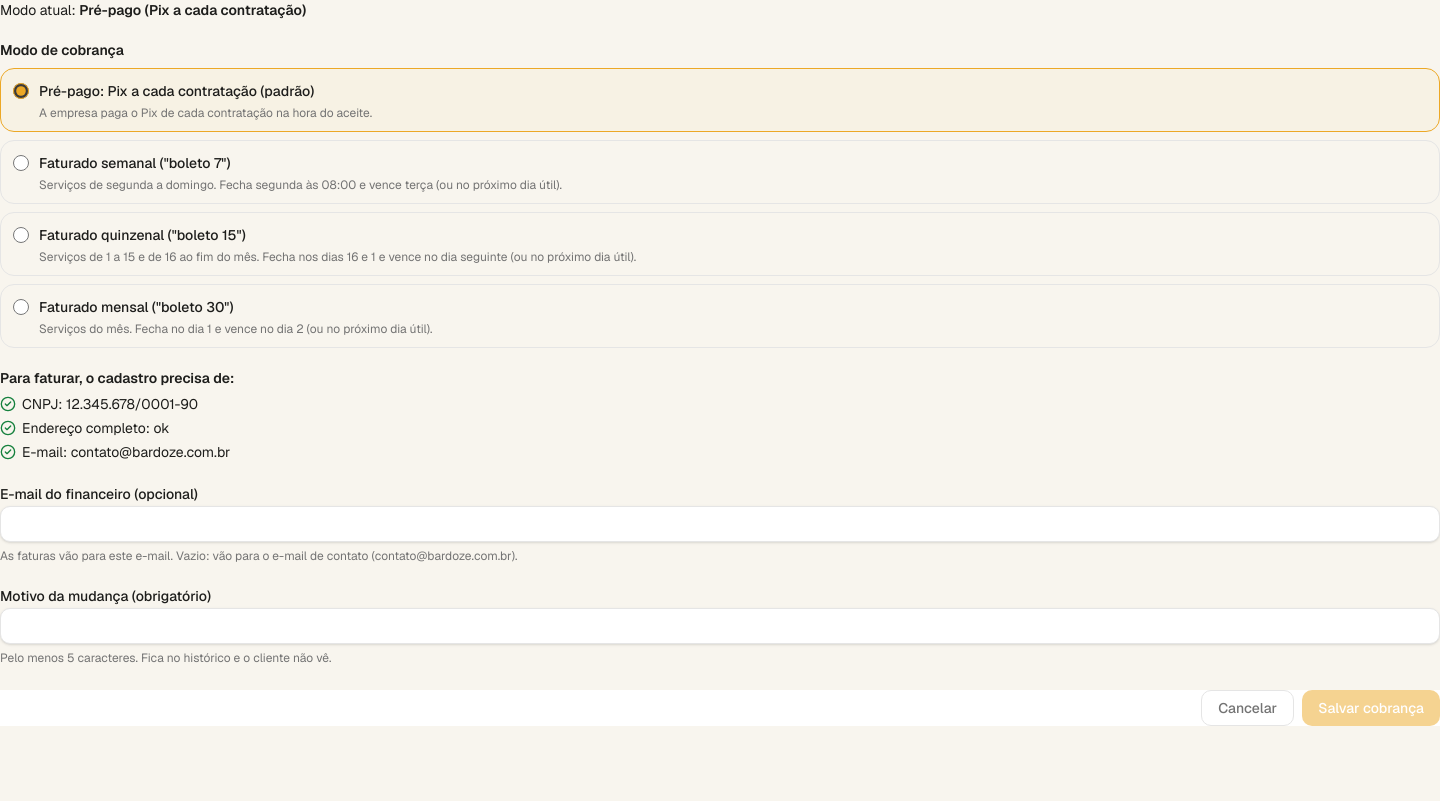
it: BillingTab — validação e salvar › ao sair do campo curto: 'Escreva o motivo (pelo menos 5 caracteres).'
Click the radio button labelled "Faturado semanal (\"boleto 7\")" at [21, 163], box [13,155,29,171]
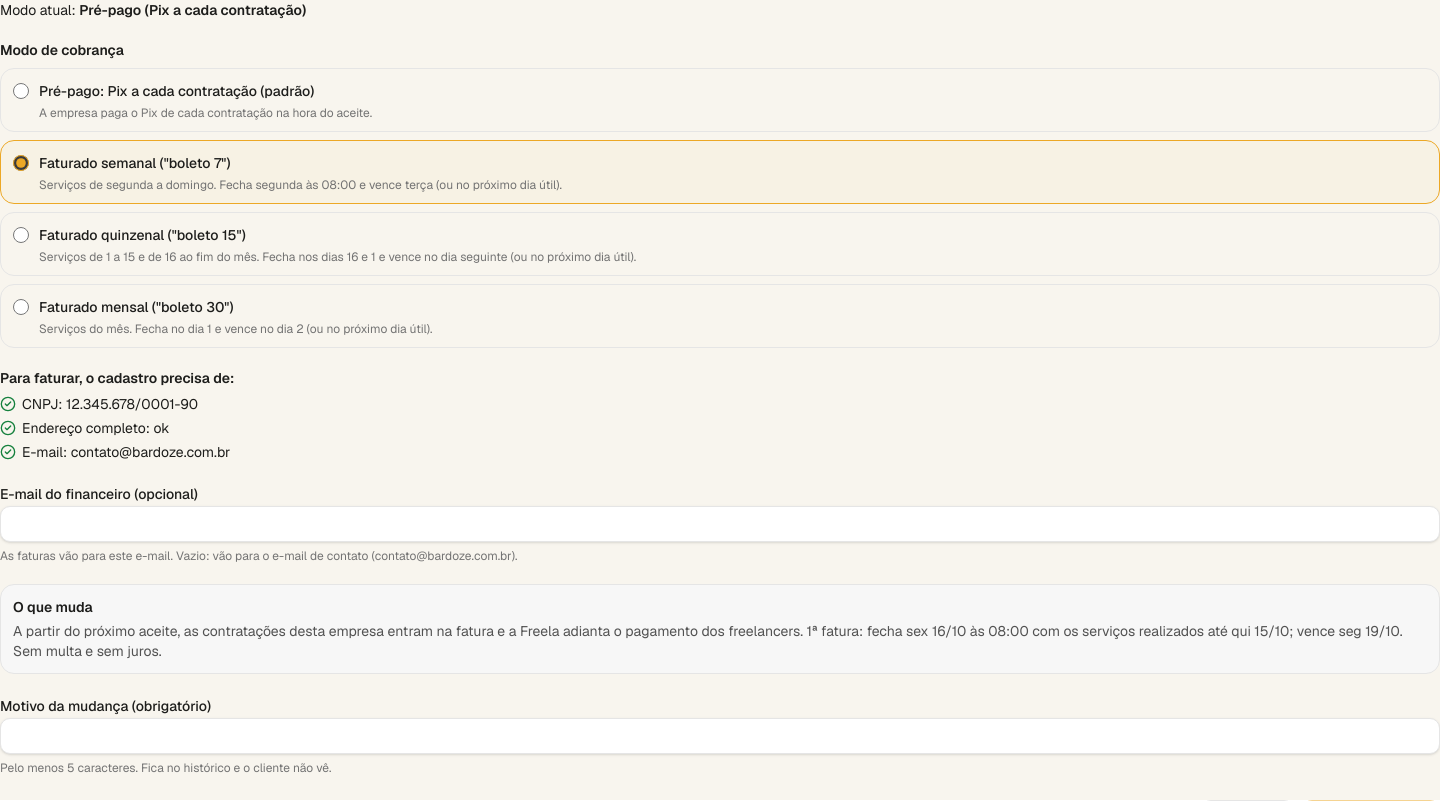
Type "abc" into the field labelled "Motivo da mudança (obrigatório)" at [720, 736], box [0,718,1439,754]
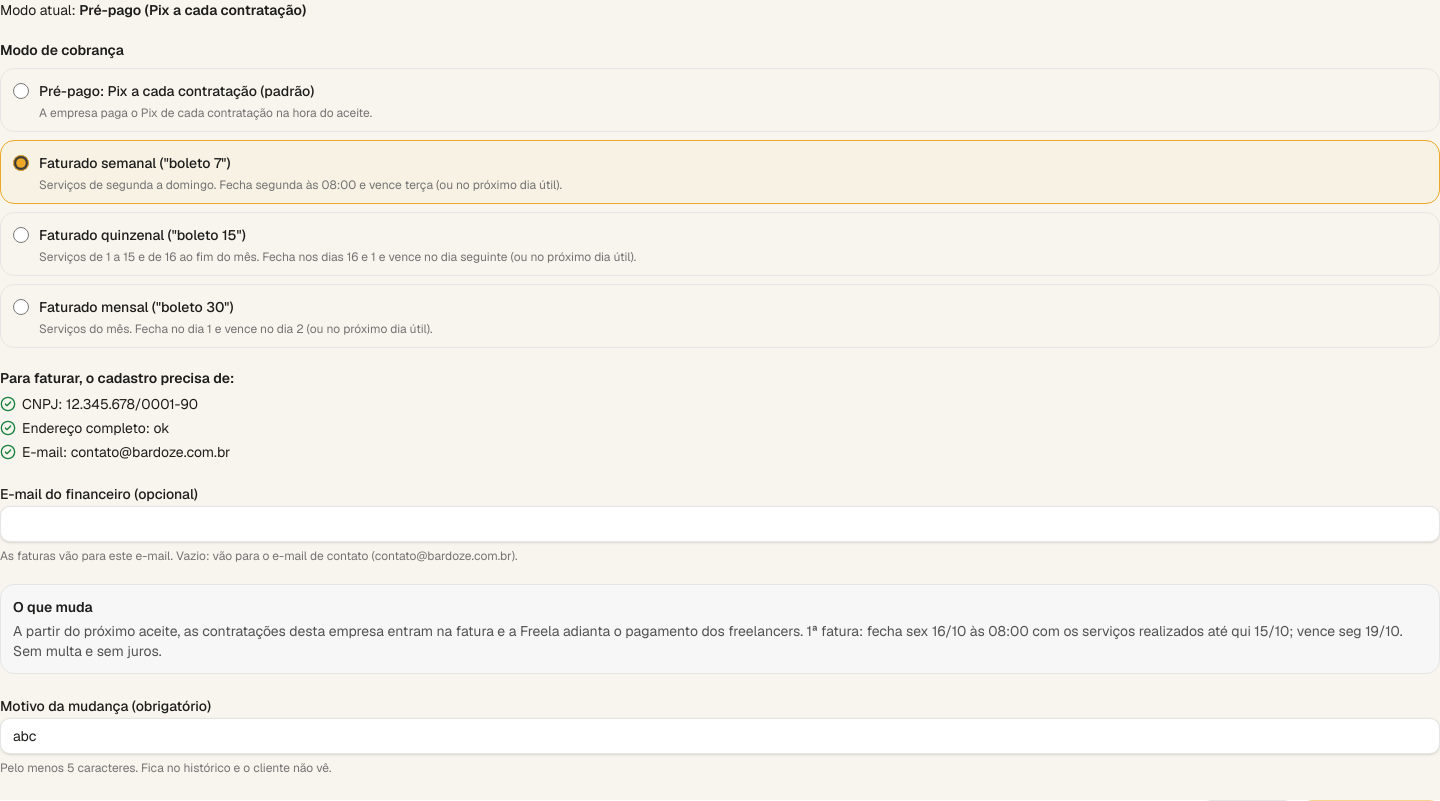
Leave the field labelled "Motivo da mudança (obrigatório)", box [0,718,1439,754]
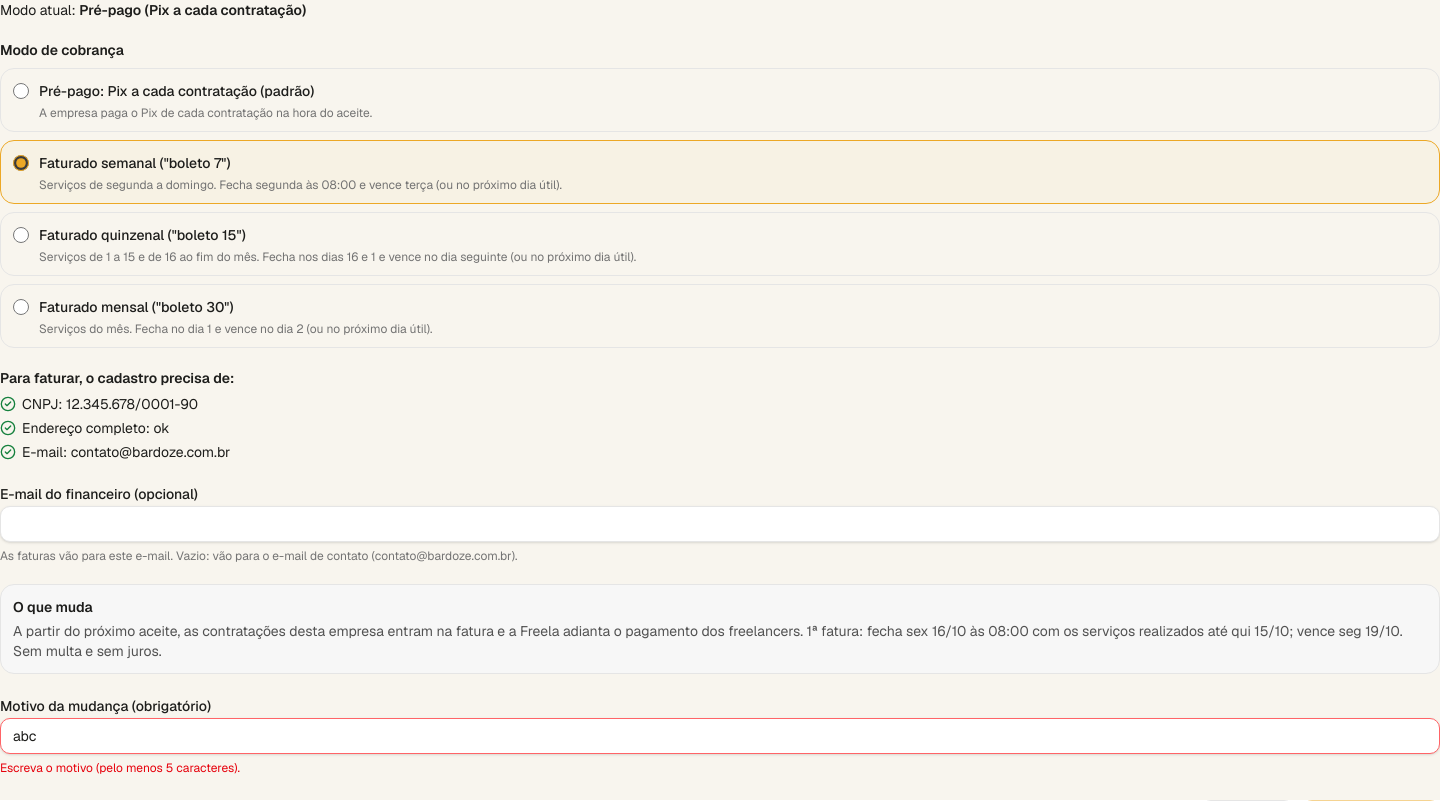
Expected: the message reads "Escreva o motivo (pelo menos 5 caracteres).", [0,760,240,776]
